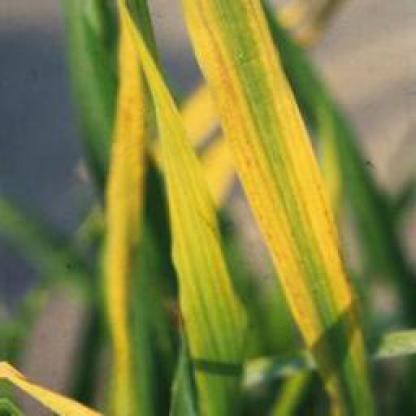Tungro: (186, 3, 383, 382), (123, 10, 227, 411), (102, 3, 157, 401), (2, 359, 113, 416)
